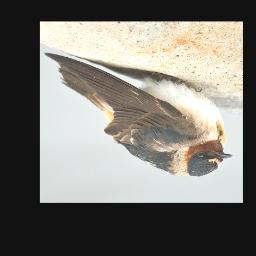Swallow: (43, 52, 233, 177)
